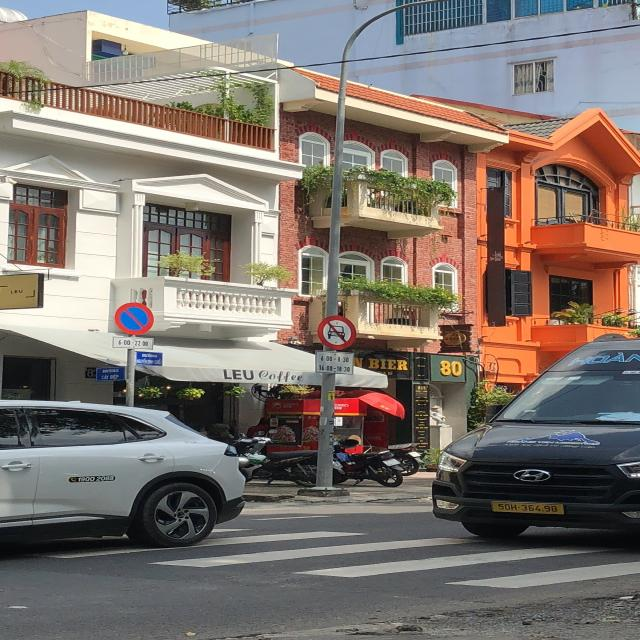Bien bao cam do xe: (108, 300, 158, 336)
Bien bao cam xe oto: (316, 312, 362, 349)
